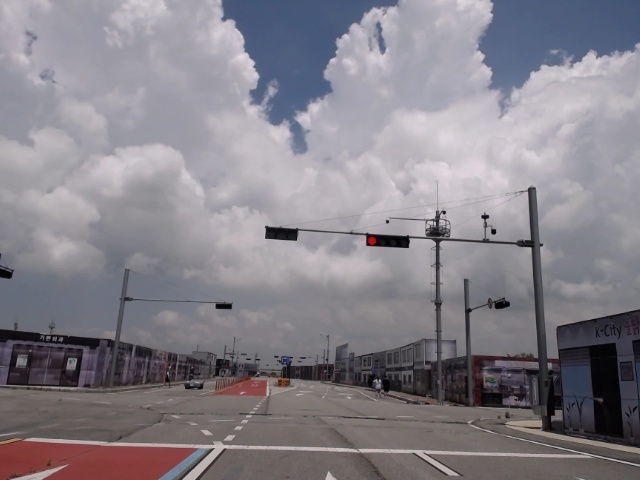red_4: (366, 234, 409, 248)
